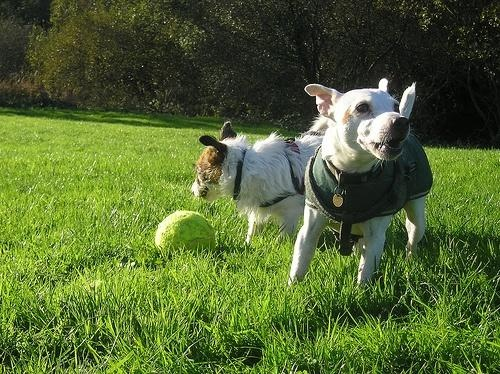dog: (295, 78, 433, 288), (191, 116, 321, 264)
